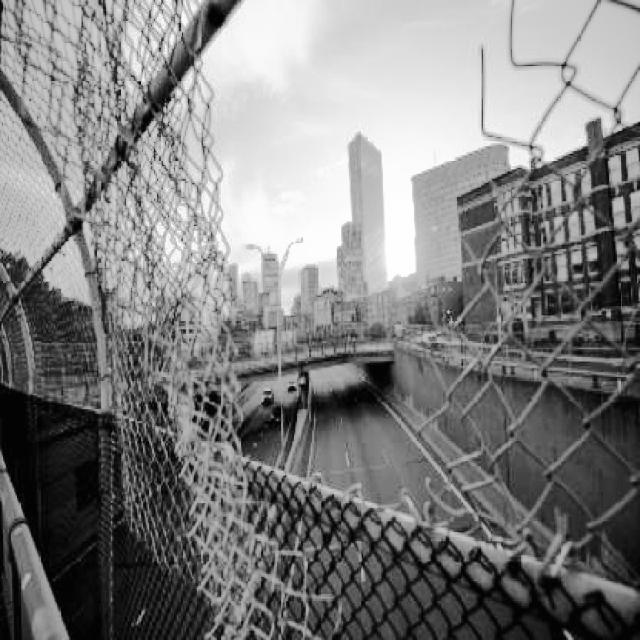anomaly-fence: (110, 3, 640, 640)
